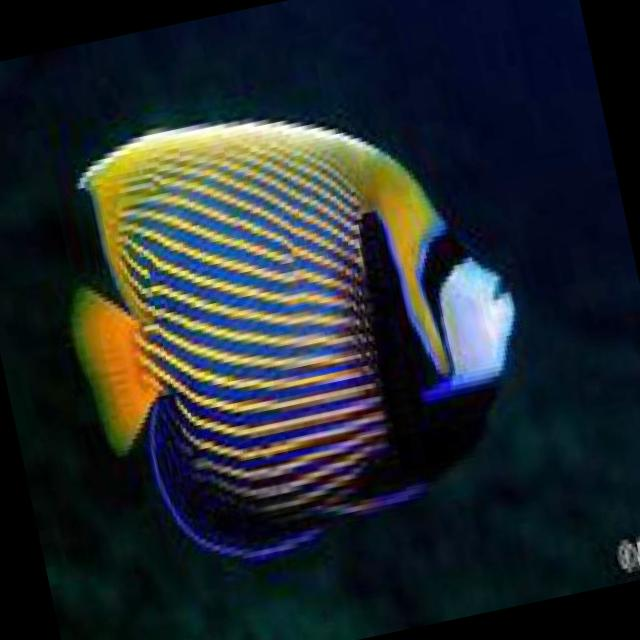AngelFish: (44, 67, 562, 592)
